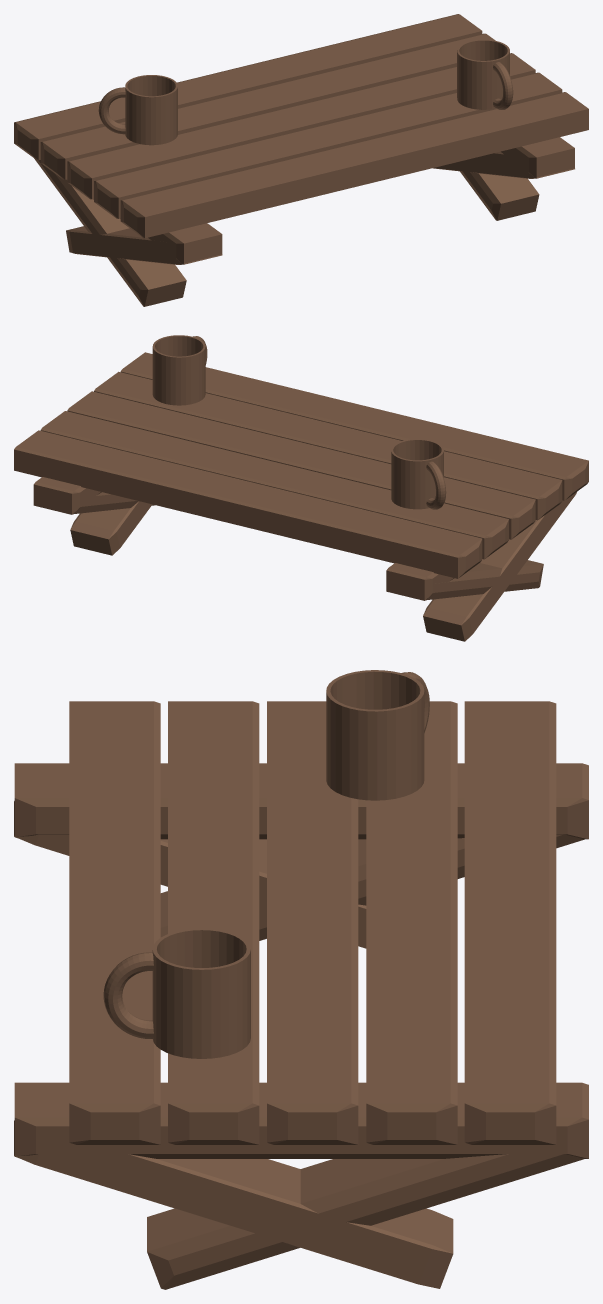
File: tabernaMesa.fbx
The picture shows the model from 3 angles, top to bottom: view 1: azimuth 30°, elevation 25°; view 2: azimuth 150°, elevation 25°; view 3: azimuth 270°, elevation 25°; orthographic projection. The views are drawn at different scales.
Parts seen in each view (by area): view 1: Mesa, Jarra.001, Jarra; view 2: Mesa, Jarra, Jarra.001; view 3: Mesa, Jarra, Jarra.001.
Part boxes in pixels (x1,y1,x2,y2): Mesa: (14, 14, 588, 306); Jarra.001: (98, 75, 177, 145); Jarra: (457, 39, 513, 109); Mesa: (14, 352, 588, 641); Jarra: (152, 335, 207, 405); Jarra.001: (391, 439, 446, 509); Mesa: (14, 701, 588, 1289); Jarra: (103, 928, 250, 1058); Jarra.001: (326, 670, 429, 800).
Size of the model in its own units: 2 by 0.6973 by 1.2.
